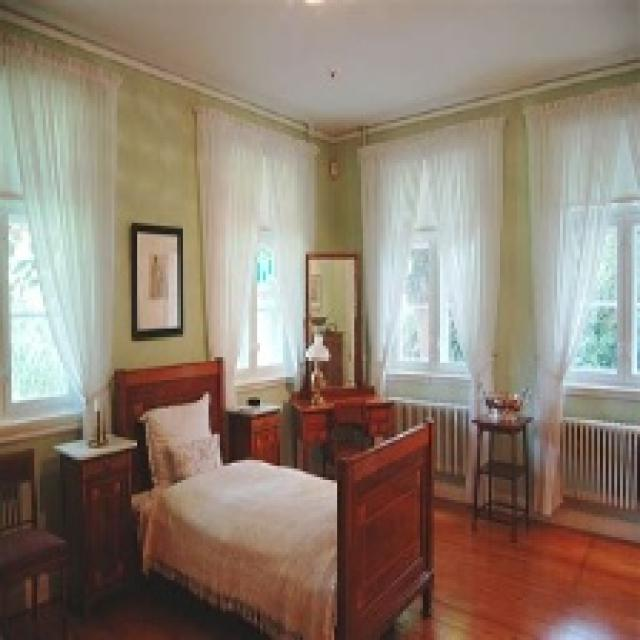Bed: (109, 354, 434, 637)
